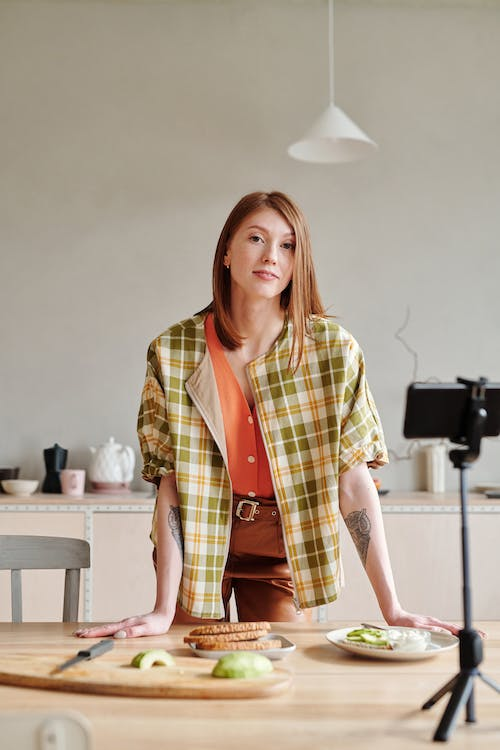knife: (53, 637, 115, 673)
